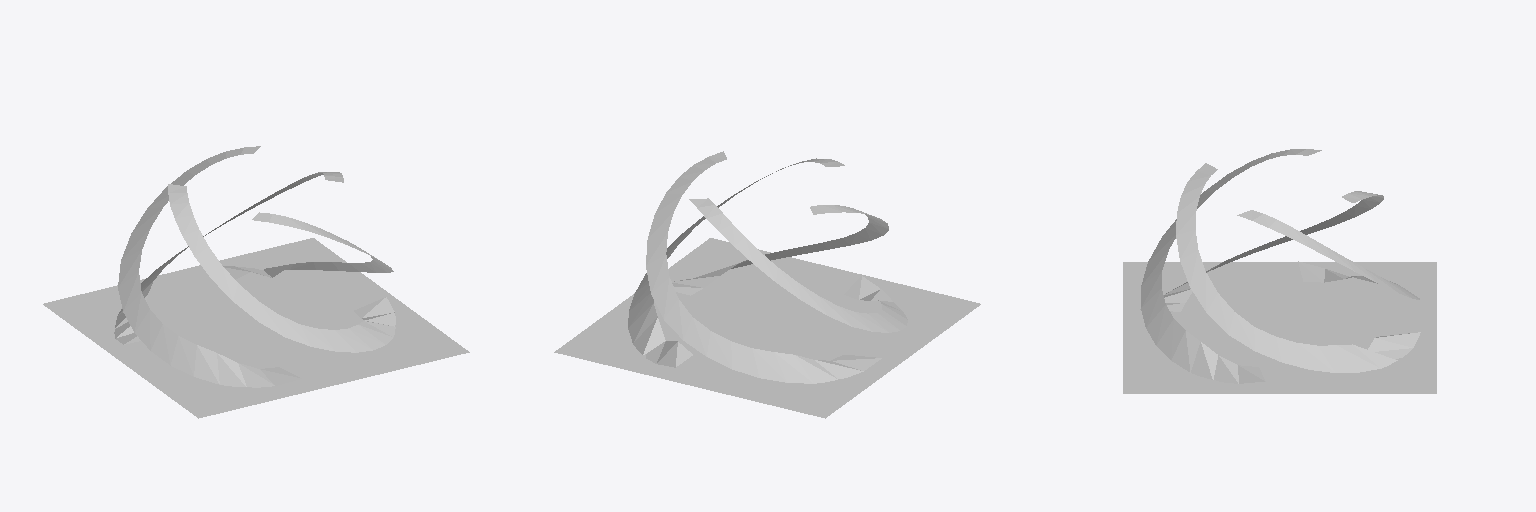
File: MagicRingRed.obj
The picture shows the model from 3 angles: view 1: azimuth 30°, elevation 25°; view 2: azimuth 150°, elevation 25°; view 3: azimuth 270°, elevation 25°; orthographic projection.
Parts seen in each view (by area): view 1: Circle_0_Circle_0.002; view 2: Circle_0_Circle_0.002; view 3: Circle_0_Circle_0.002.
Part boxes in pixels (x1,y1,x2,y2): Circle_0_Circle_0.002: (43,146,469,418); Circle_0_Circle_0.002: (554,151,980,418); Circle_0_Circle_0.002: (1123,149,1436,393).
Bounding box in the file's own units: 10.45 × 5.36 × 10.45.